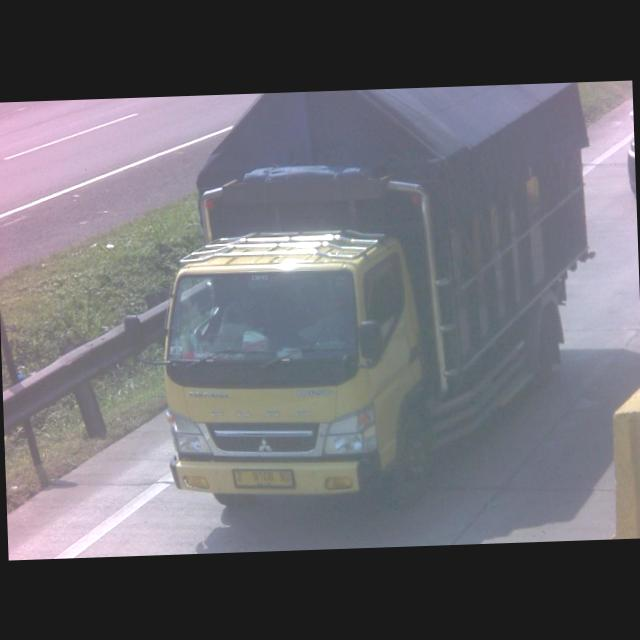plate: (229, 466, 298, 490)
